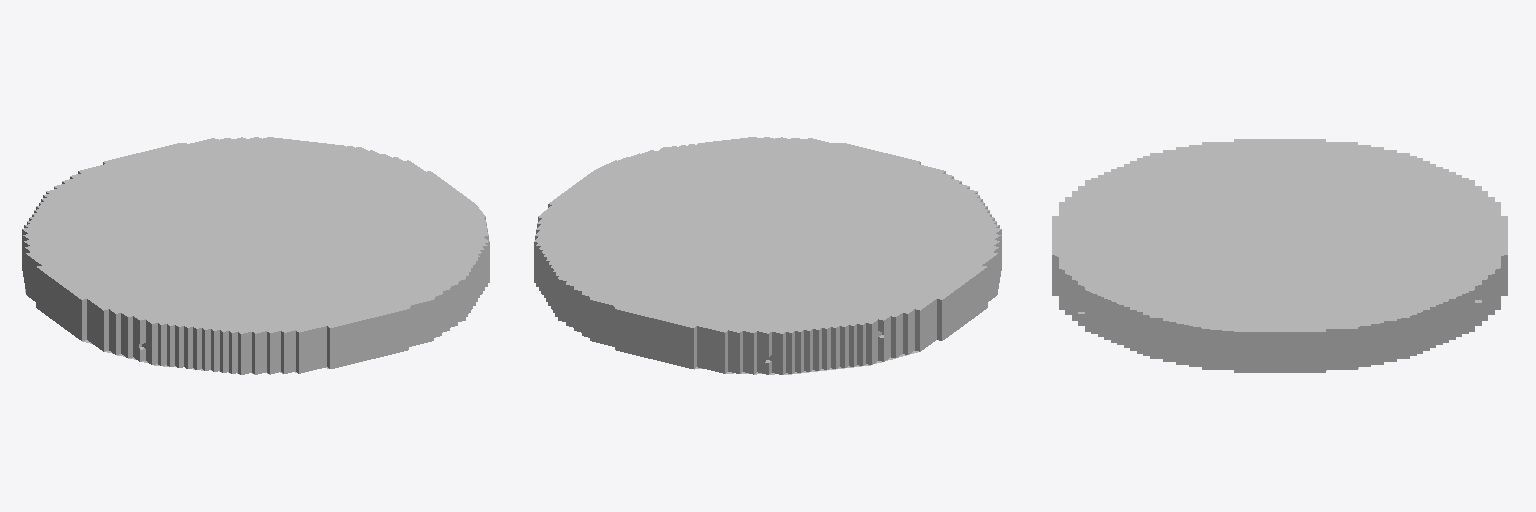
Rendered from mithrilcoin.obj.
3 renders of one model, left to right at view 1: azimuth 30°, elevation 25°; view 2: azimuth 150°, elevation 25°; view 3: azimuth 270°, elevation 25°, orthographic.
Visible parts, largest first — view 1: piece_de_monnaie_1; view 2: piece_de_monnaie_1; view 3: piece_de_monnaie_1.
Part boxes in pixels (bbox=[...]): piece_de_monnaie_1: bbox=[22, 137, 489, 374]; piece_de_monnaie_1: bbox=[534, 137, 1001, 374]; piece_de_monnaie_1: bbox=[1052, 139, 1507, 372].
Size of the model in its own units: 0.0345 by 0.0034 by 0.0345.